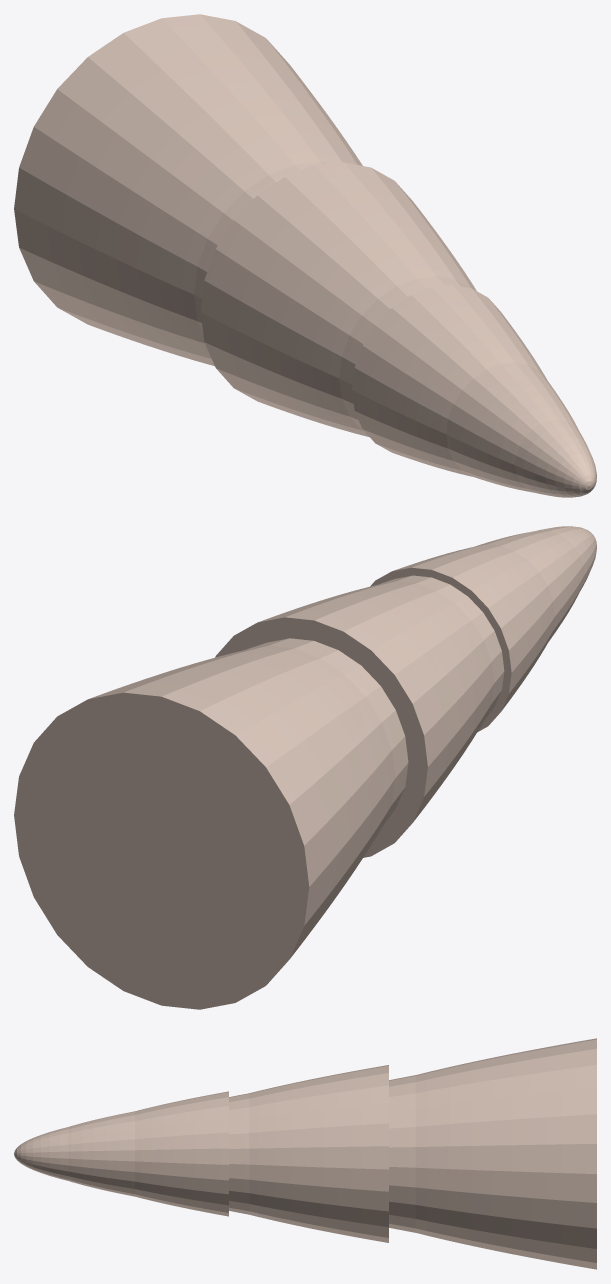
Rendered from tinker.obj.
3 renders of one model, top to bottom at view 1: azimuth 30°, elevation 25°; view 2: azimuth 150°, elevation 25°; view 3: azimuth 270°, elevation 25°, orthographic. The views are drawn at different scales.
Parts seen in each view (by area): view 1: obj_0; view 2: obj_0; view 3: obj_0.
Boxes of the visible parts, x1,y1,x2,y2 form: obj_0: (14,14,596,497); obj_0: (14,526,596,1009); obj_0: (14,1038,596,1269).
Bounding box in the file's own units: 20 × 20 × 50.2.
